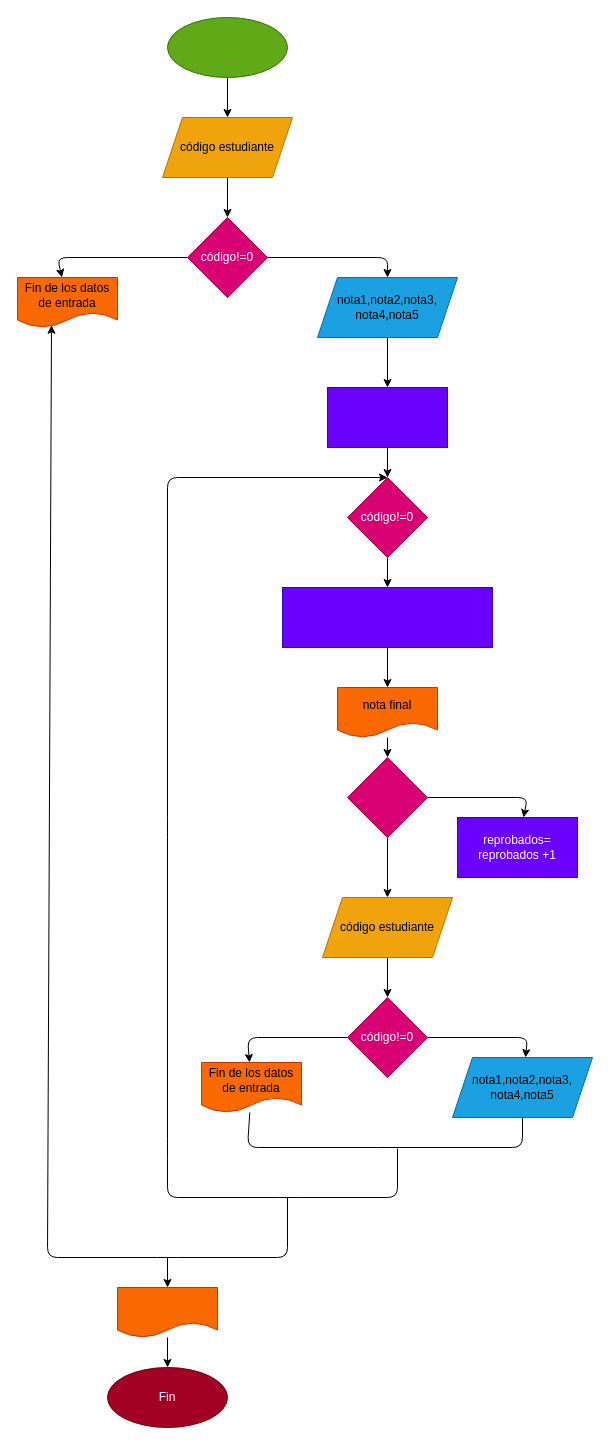
Image size: 610x1445. Some labels were removed from this diagram. The centre of each missing label's shape, as x and y in pixels:
"Inicio" goes at point (227, 47).
"nota_final<5" goes at point (387, 797).
"nota_final=(nota1+nota2+nota3+nota4+nota5)/5" goes at point (387, 617).
"reprobados" goes at point (167, 1312).
"reprobados=0" goes at point (387, 417).
